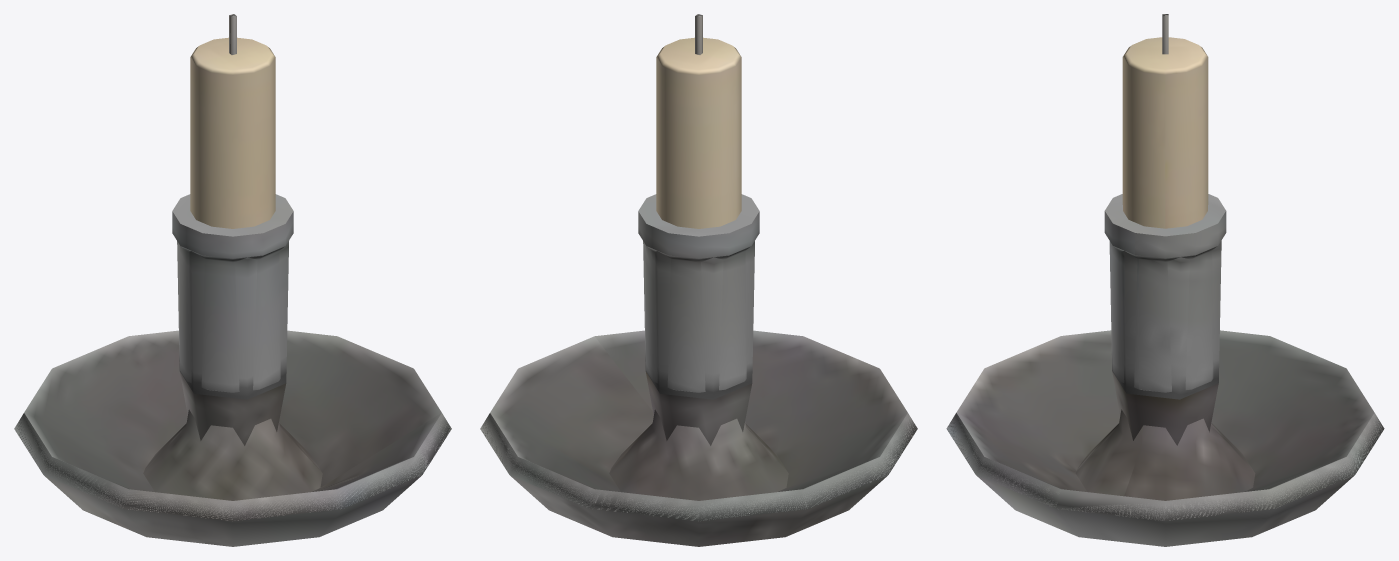
Rendered from Candleholder_Lit.glb.
3 renders of one model, left to right at view 1: azimuth 30°, elevation 25°; view 2: azimuth 150°, elevation 25°; view 3: azimuth 270°, elevation 25°, orthographic.
Visible parts, largest first — view 1: CandleSmall; view 2: CandleSmall; view 3: CandleSmall.
Boxes of the visible parts, x1,y1,x2,y2 form: CandleSmall: [14, 14, 451, 546]; CandleSmall: [480, 14, 917, 546]; CandleSmall: [946, 14, 1384, 546].
Bounding box in the file's own units: 0.1956 × 0.2376 × 0.1956.
Materials: 1 (1 with a texture image).
